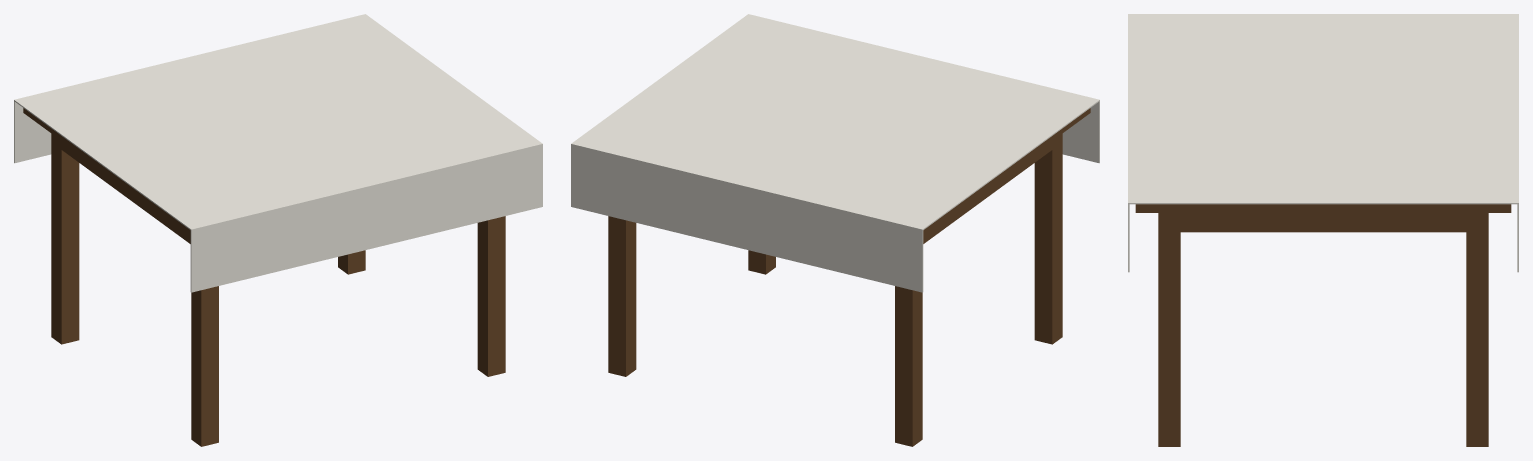
3 views of the same model, side by side, from view 1: azimuth 30°, elevation 25°; view 2: azimuth 150°, elevation 25°; view 3: azimuth 270°, elevation 25° (orthographic). The views are drawn at different scales.
Parts seen in each view (by area): view 1: parametric-variant-table-1st-pub-4827a89f8b102c9753ed; view 2: parametric-variant-table-1st-pub-4827a89f8b102c9753ed; view 3: parametric-variant-table-1st-pub-4827a89f8b102c9753ed.
Boxes of the visible parts, <box> form: parametric-variant-table-1st-pub-4827a89f8b102c9753ed: <box>14,14,542,446</box>; parametric-variant-table-1st-pub-4827a89f8b102c9753ed: <box>571,14,1099,446</box>; parametric-variant-table-1st-pub-4827a89f8b102c9753ed: <box>1128,14,1518,446</box>.
Bounding box in the file's own units: 1.19 × 0.754 × 1.04.
